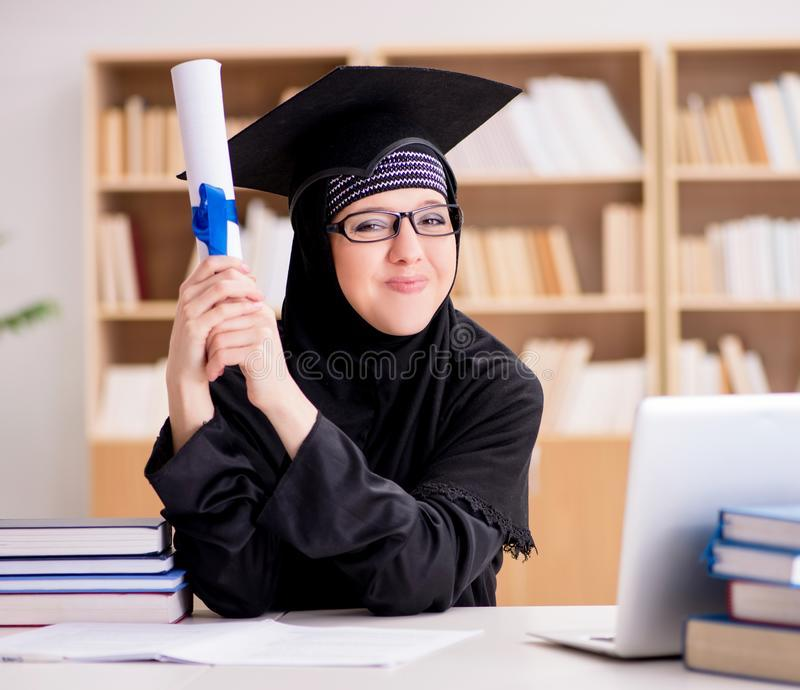No Mask: (282, 109, 519, 371)
